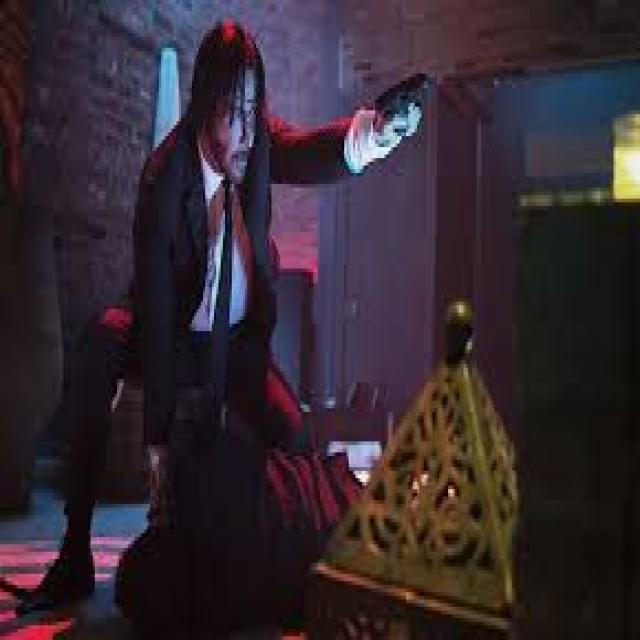weapons: (362, 50, 442, 168)
